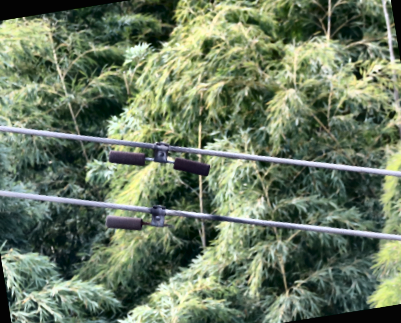damper: (107, 140, 212, 176)
damper_defect: (103, 203, 177, 230)
